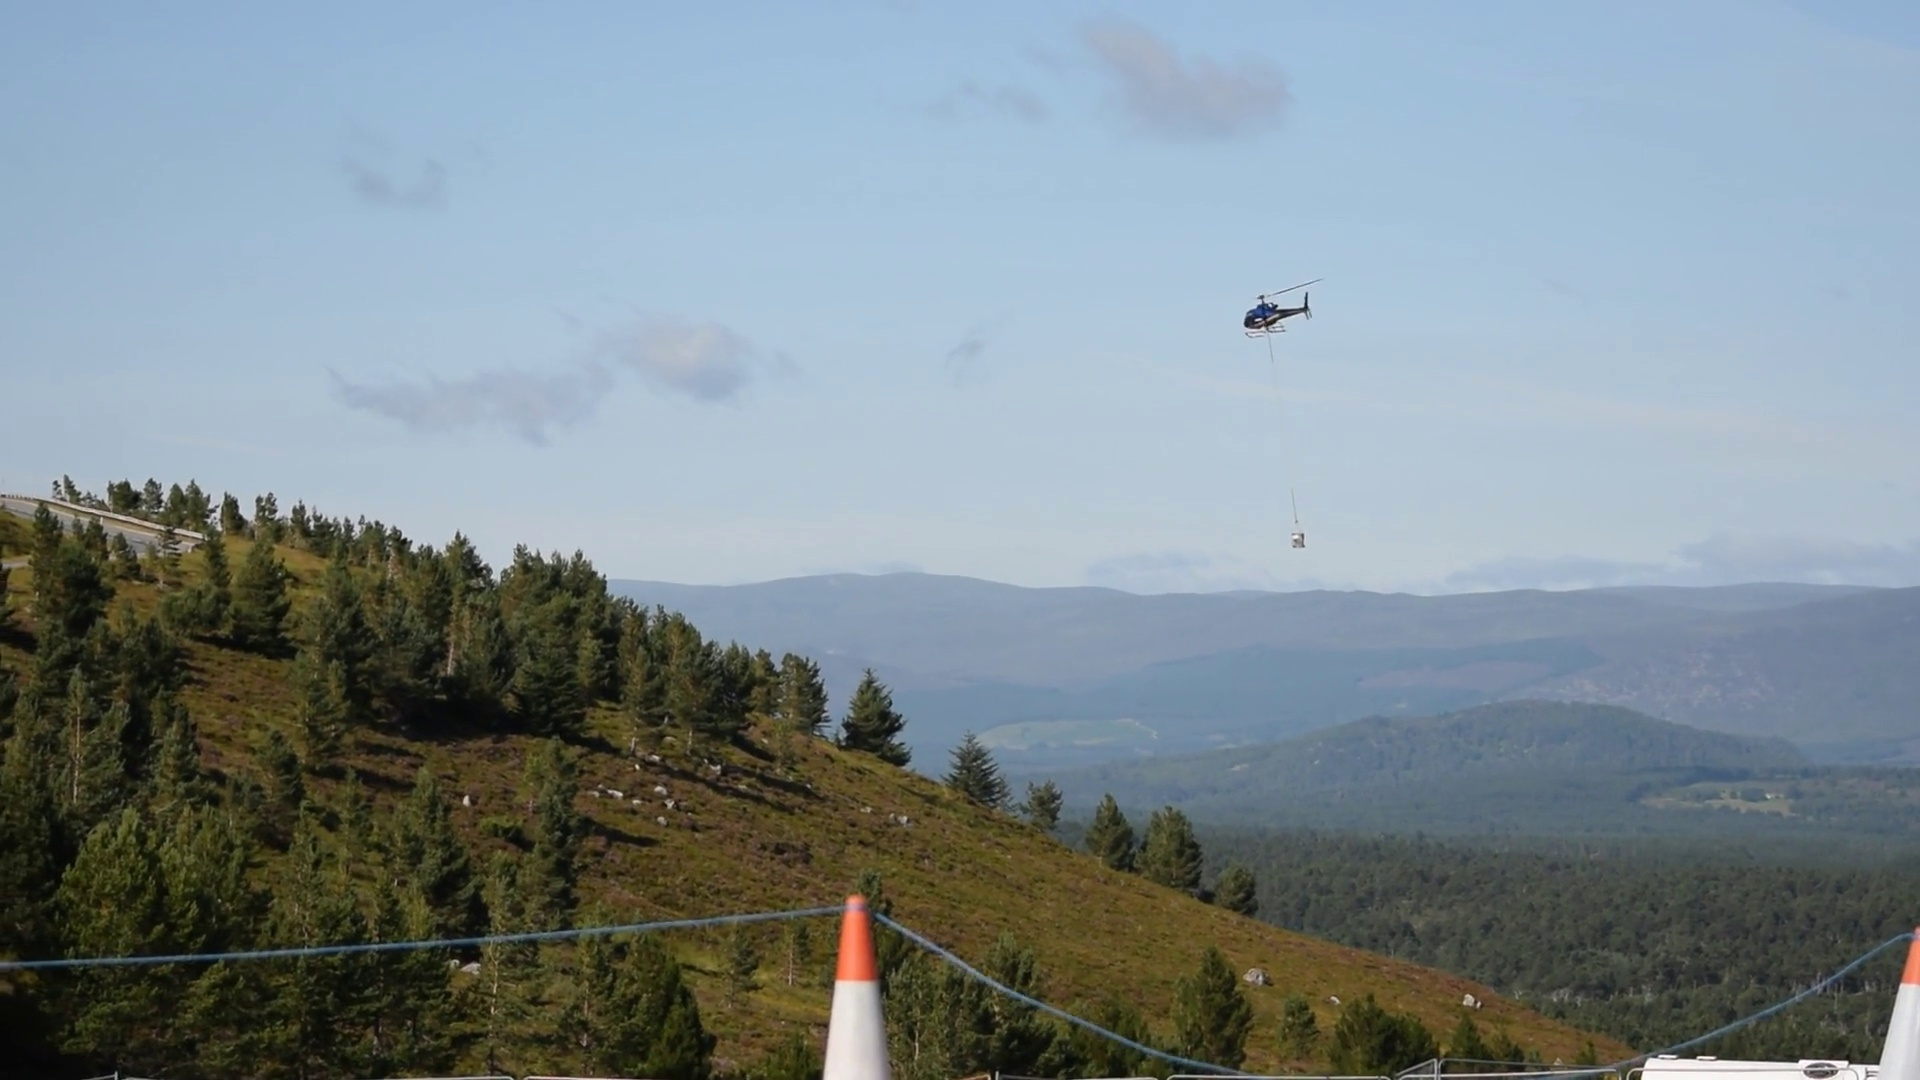heli: (1234, 280, 1321, 340)
